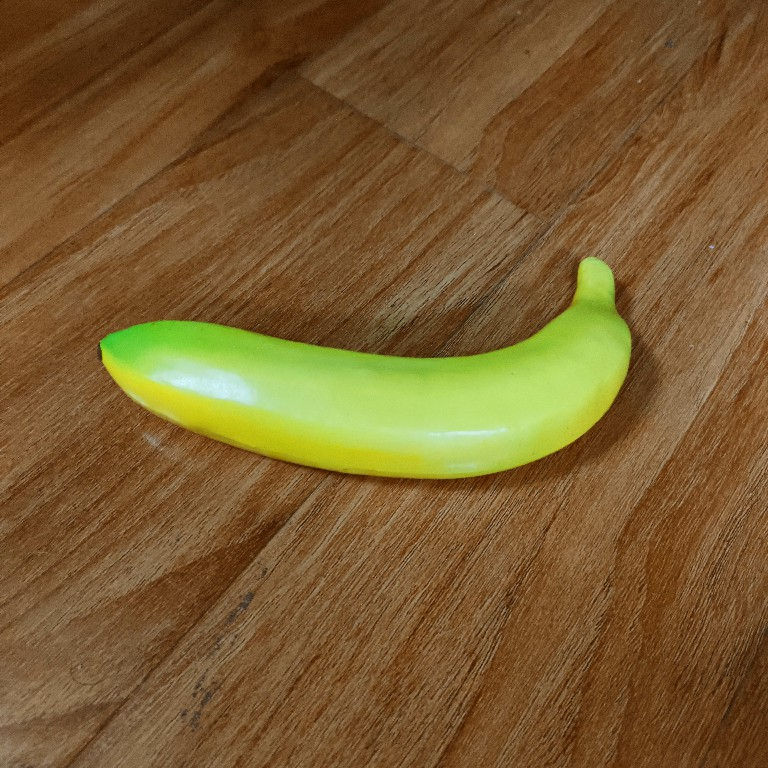fruit_banana: (91, 250, 636, 484)
